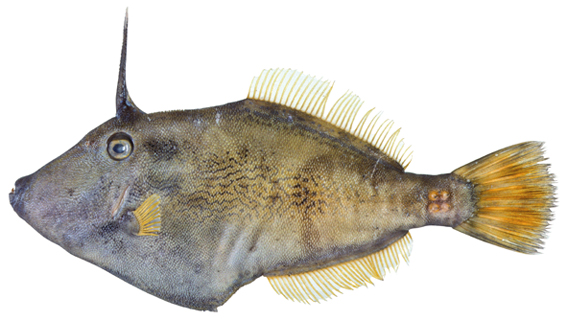fish: (9, 7, 556, 312)
